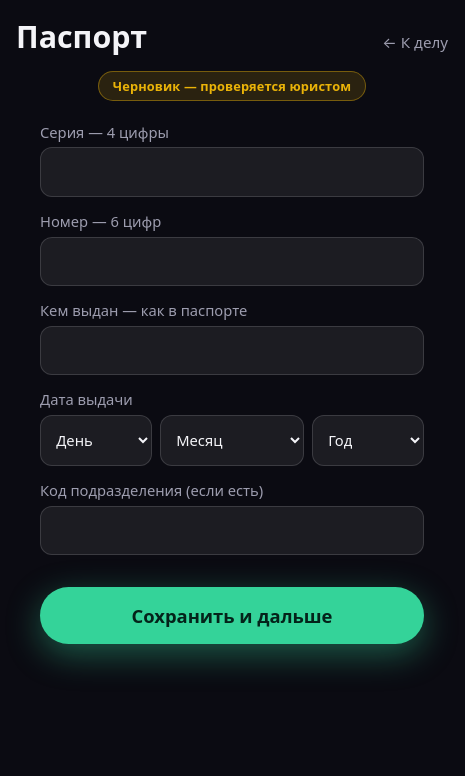
it: SectionPage › renders the form from the field metadata and keeps a clean save on the device
The image size is (465, 776).
Step 1. Type "4519" into the field labelled "Серия — 4 цифры" → (232, 172), box [40,147,424,197]
Step 2. Type "123456" into the field labelled "Номер — 6 цифр" → (232, 261), box [40,236,424,286]
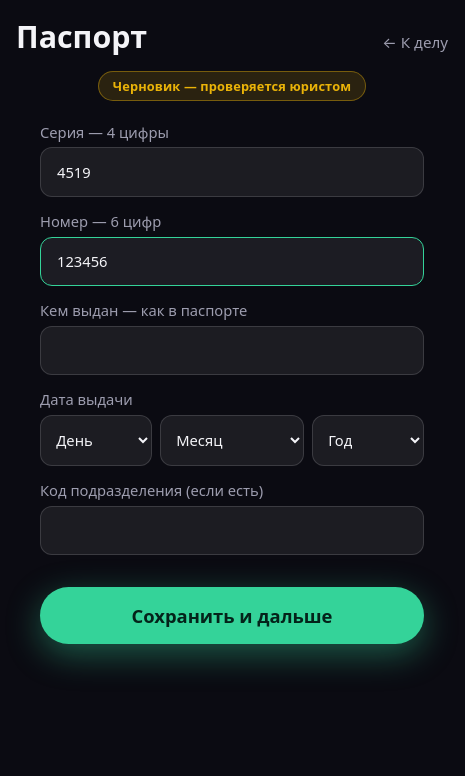
Step 3. Type "ГУ МВД России по г. Москве" into the field labelled "Кем выдан — как в паспорте" → (232, 350), box [40,326,424,375]
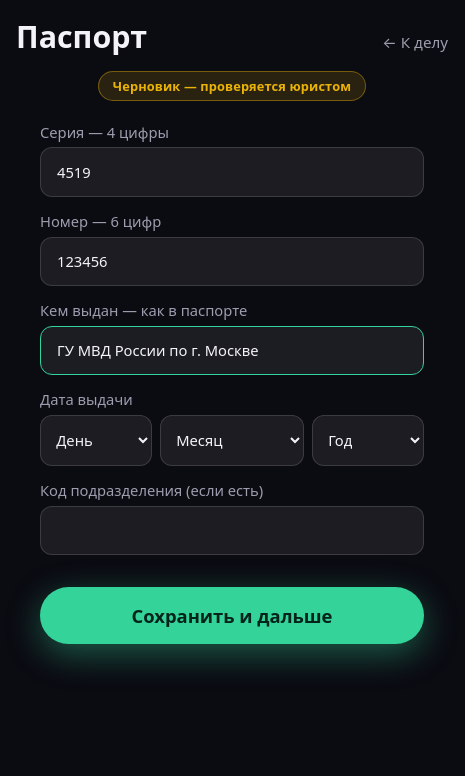
Step 4. Select "14" in the dropdown named "Дата выдачи — день" → (96, 440), box [40,415,152,466]
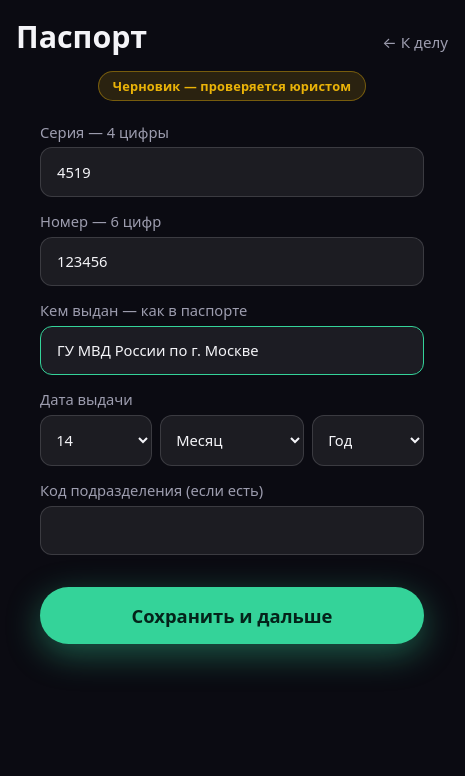
Step 5. Select "Июнь" in the dropdown named "Дата выдачи — месяц" → (232, 440), box [160,415,304,466]
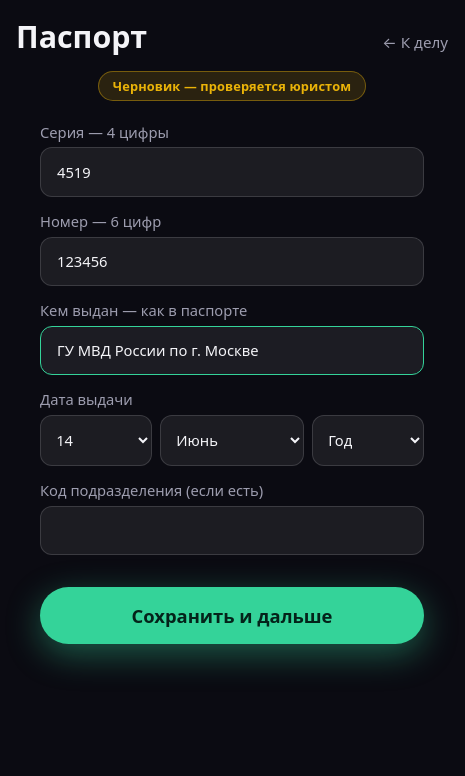
Step 6. Select "2019" in the dropdown named "Дата выдачи — год" → (368, 440), box [312,415,424,466]
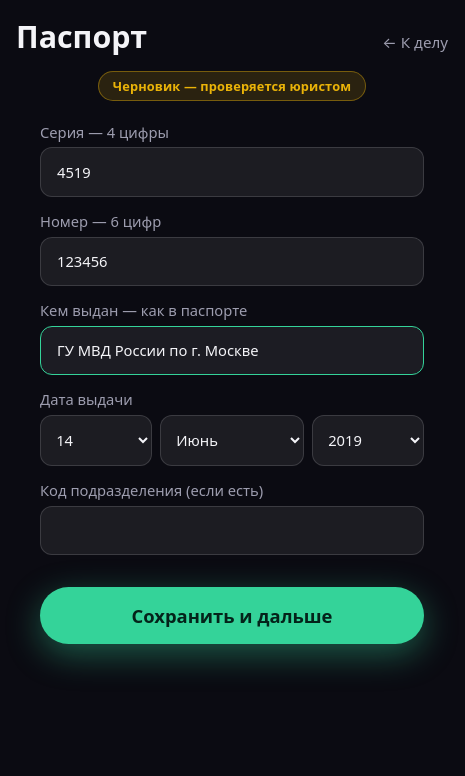
Step 7. Click the button "Сохранить и дальше" → (232, 616), box [40,587,424,644]
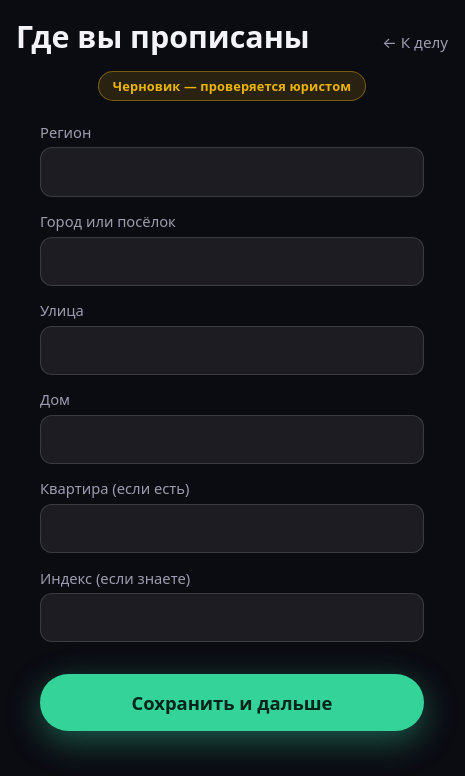
Expected: the heading "Где вы прописаны" is shown, [16,16,310,57]
